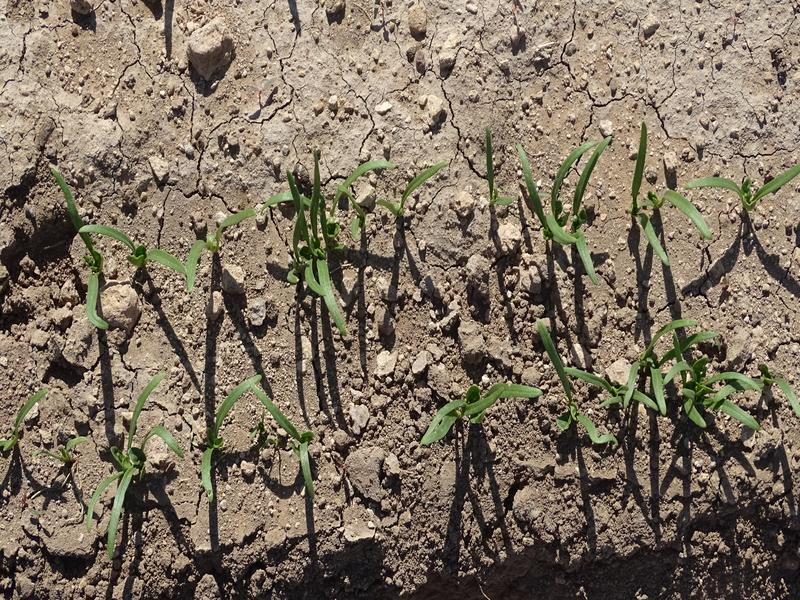Espinaca: (538, 314, 794, 442), (294, 160, 448, 329), (76, 201, 259, 326), (629, 127, 797, 261), (78, 370, 175, 554), (519, 135, 615, 281), (255, 385, 331, 491), (431, 368, 540, 435), (202, 374, 256, 480), (2, 385, 52, 453)
